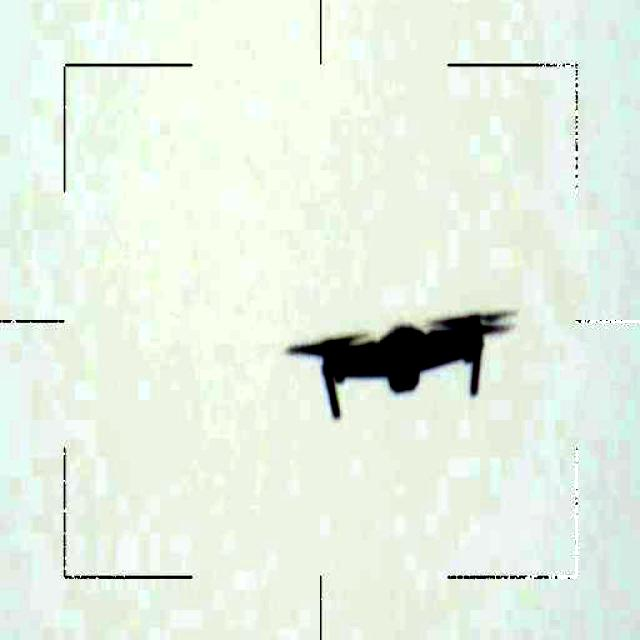bird: (288, 309, 525, 424)
